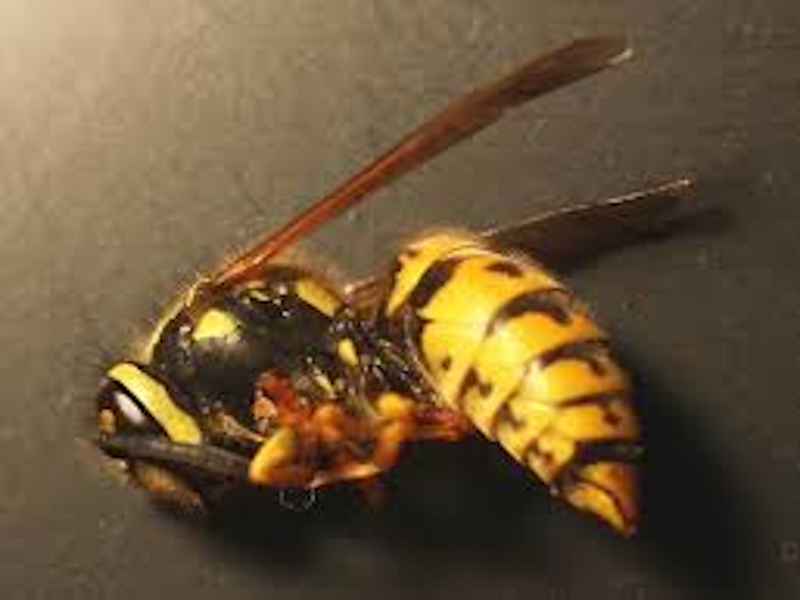chax: (80, 44, 728, 554)
